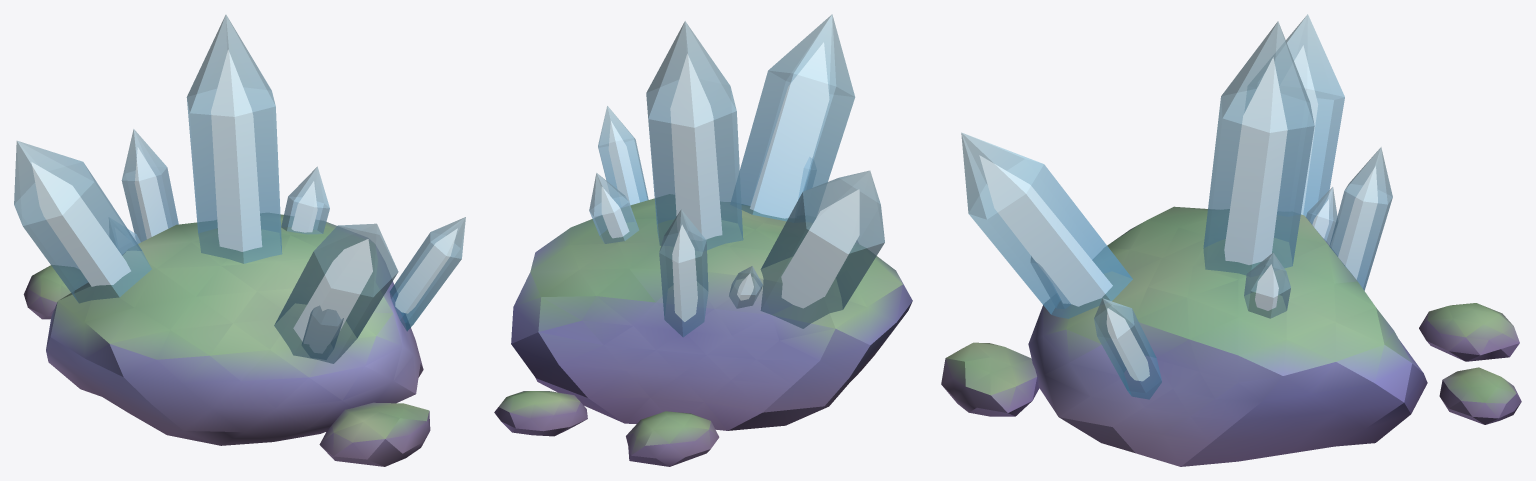
File: verdant_crystal_cluster_a.glb
3 renders of one model, left to right at view 1: azimuth 30°, elevation 25°; view 2: azimuth 150°, elevation 25°; view 3: azimuth 270°, elevation 25°, orthographic. The views are drawn at different scales.
Visible parts, largest first — view 1: verdant_crystal_cluster_a; view 2: verdant_crystal_cluster_a; view 3: verdant_crystal_cluster_a.
Boxes of the visible parts, box(x1,y1,x2,y2) form: verdant_crystal_cluster_a: box(14, 14, 465, 466); verdant_crystal_cluster_a: box(494, 14, 912, 466); verdant_crystal_cluster_a: box(941, 14, 1521, 466).
Bounding box in the file's own units: 1.61 × 1.48 × 2.1.
